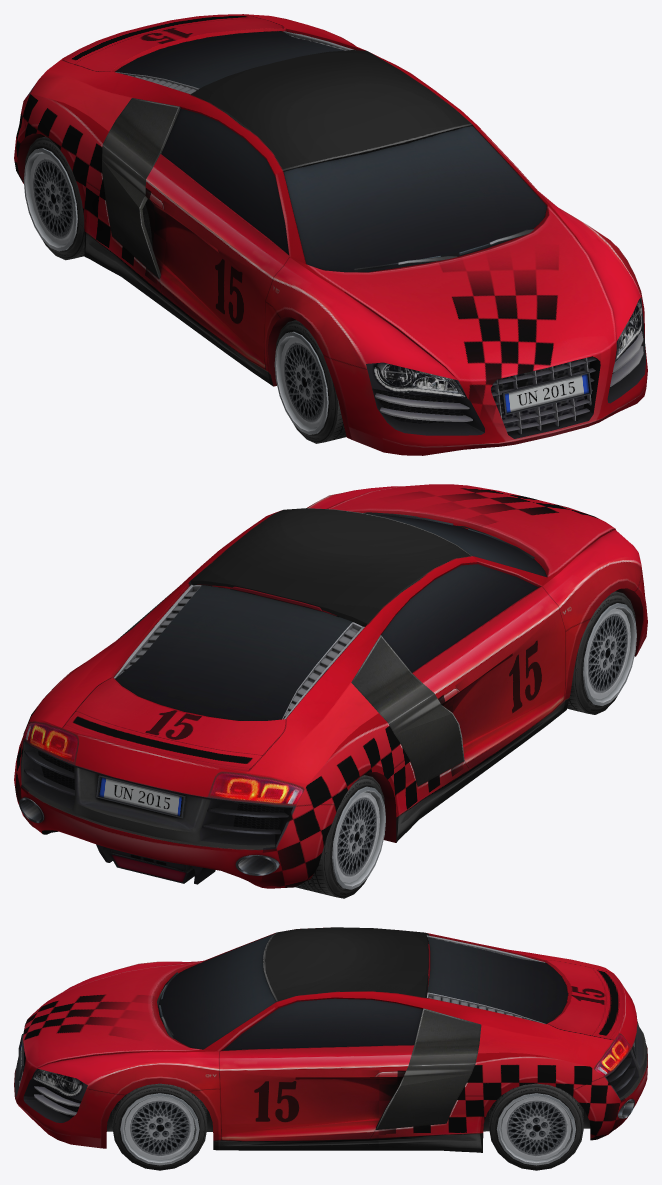
File: Car.fbx
3 views of the same model, one above another, from view 1: azimuth 30°, elevation 25°; view 2: azimuth 150°, elevation 25°; view 3: azimuth 270°, elevation 25° (orthographic). The views are drawn at different scales.
Visible parts, largest first — view 1: Coar_body, Wheel_FR1, Wheel_BR1; view 2: Coar_body, Wheel_BR1, Wheel_FR1; view 3: Coar_body, Wheel_FL1, Wheel_BL1.
Part boxes in pixels (left/top/right/bottom): Coar_body: left=14, top=14, right=647, bottom=455; Wheel_FR1: left=274, top=320, right=346, bottom=443; Wheel_BR1: left=23, top=136, right=84, bottom=260; Coar_body: left=14, top=484, right=647, bottom=888; Wheel_BR1: left=295, top=775, right=385, bottom=898; Wheel_FR1: left=567, top=591, right=636, bottom=714; Coar_body: left=14, top=927, right=647, bottom=1152; Wheel_FL1: left=112, top=1083, right=207, bottom=1170; Wheel_BL1: left=489, top=1083, right=583, bottom=1170.
Size of the model in its own units: 2.97 by 1.96 by 6.84.
